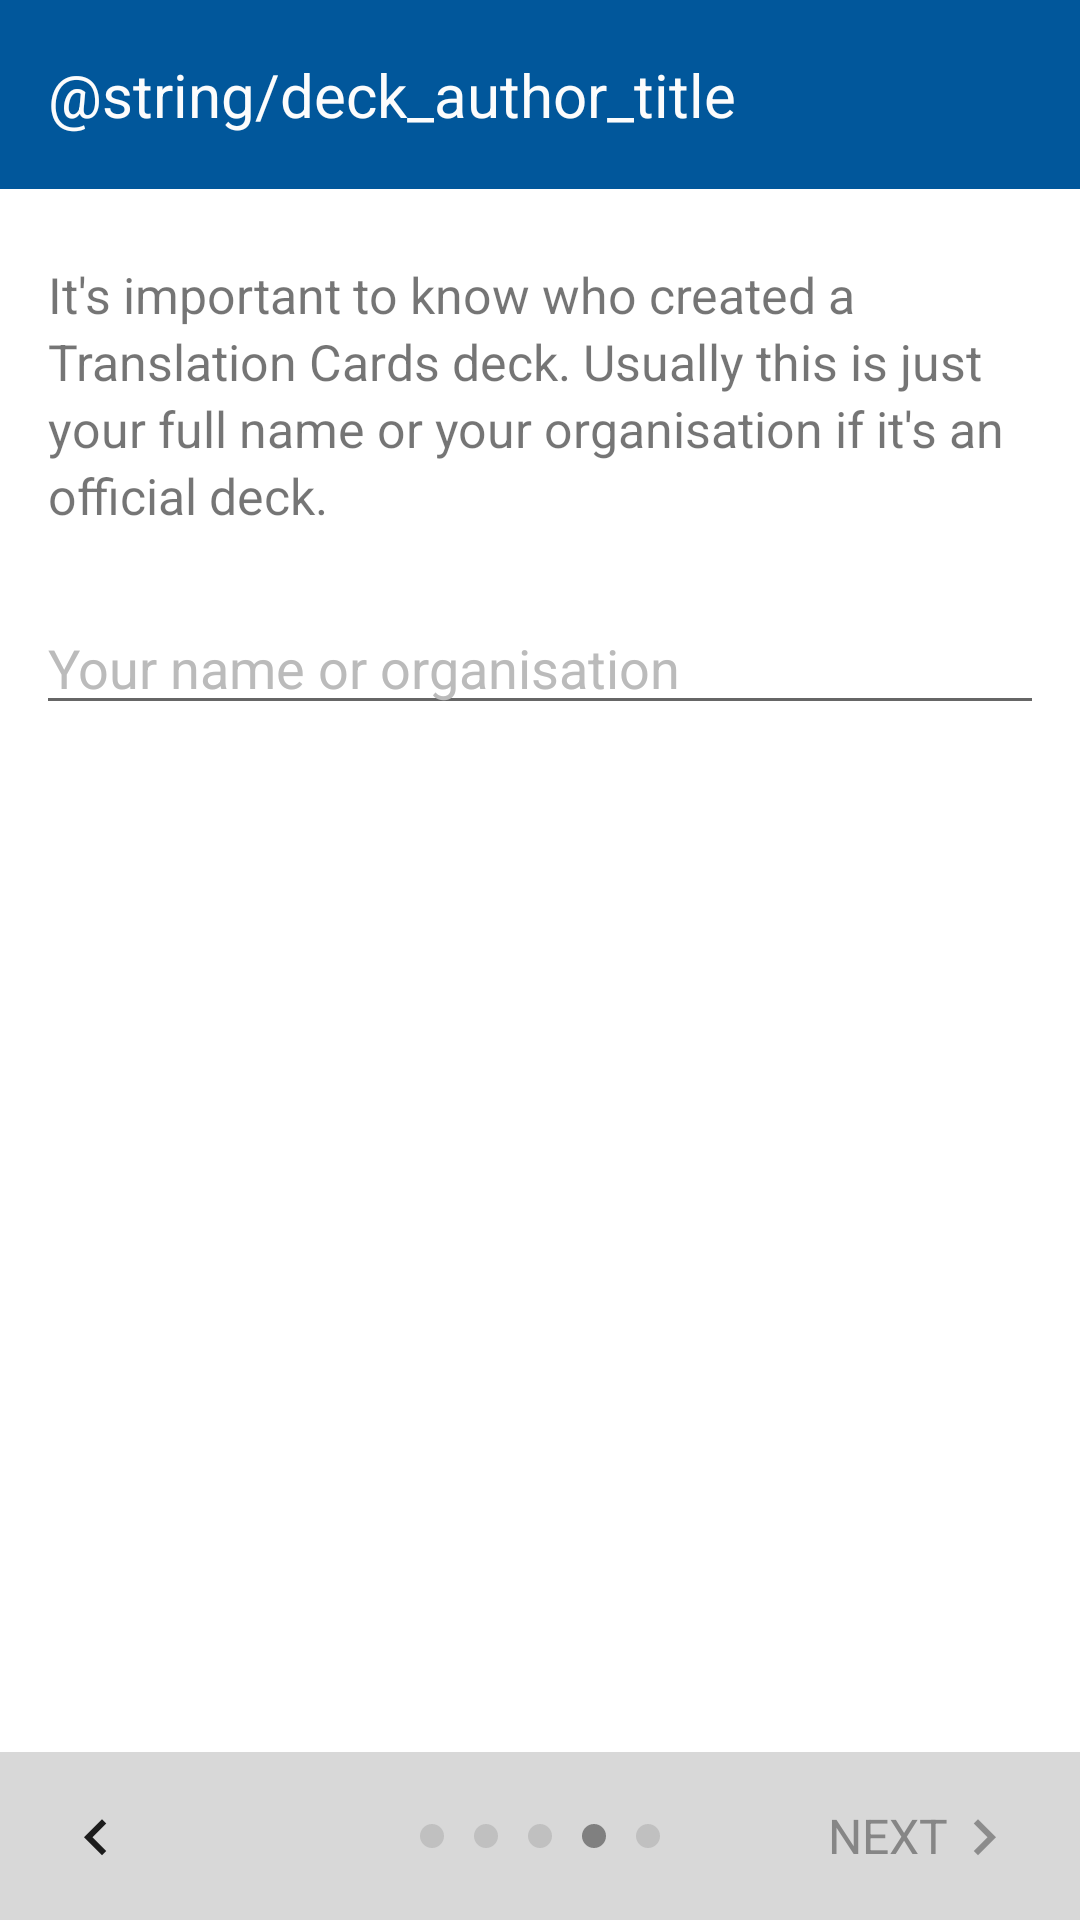

Locate icon controls on the screen. Image size 1080×1920, boxes as (x1, y1, x2, y2).
back arrow: (84, 1819, 106, 1855)
forward arrow 40p: (974, 1820, 996, 1855)
